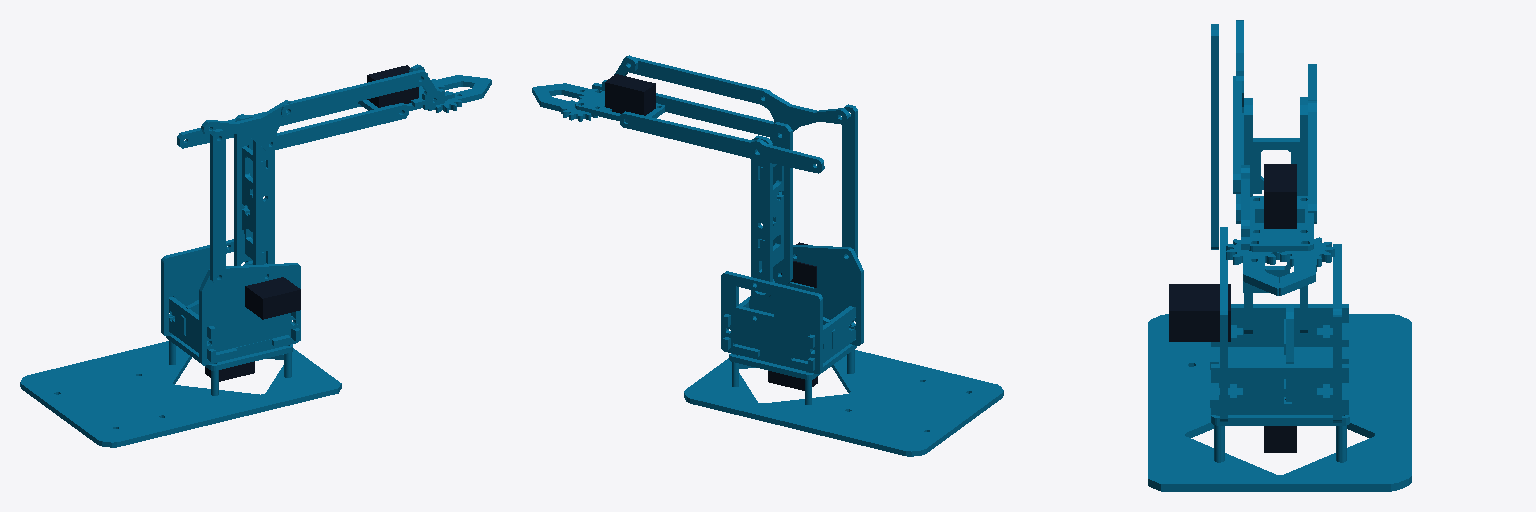
The robot description file, URDF, robot "mearm_v1":
<?xml version='1.0' encoding='utf-8'?>
<robot name="mearm_v1">
  <link name="world" />
  <link name="base">
    <inertial>
      <origin xyz="-0.0303282184 -0.000162375039 0.004575641184" />
      <mass value="0.0483422763018612" />
      <inertia ixx="3.8732441625071264e-05" iyy="8.64216964343675e-05" izz="0.00012075658607340269" ixy="7.669307180690146e-08" ixz="-4.469257511231687e-06" iyz="-3.4871850270490834e-08" />
    </inertial>
    <visual>
      <geometry>
        <mesh filename="../models/mearm_v1/meshes/base.stl" />
      </geometry>
      <material name="base_color">
        <color rgba="0.06 0.48 0.64 1" />
      </material>
    </visual>
    <collision>
      <origin xyz="-0.0304 0 0.0015" rpy="0 0 0" />
      <geometry>
        <box size="0.145 0.095 0.003" />
      </geometry>
    </collision>
    <collision>
      <origin xyz="0 0 0.0195" rpy="0 0 0" />
      <geometry>
        <box size="0.06 0.06 0.003" />
      </geometry>
    </collision>
  </link>
  <joint name="base_fixed" type="fixed">
    <parent link="world" />
    <child link="base" />
    <origin xyz="0 0 0" rpy="0 0 0" />
  </joint>
  <link name="yaw">
    <inertial>
      <origin xyz="-0.0001961493142 -0.0002219664234 0.01189272227" />
      <mass value="0.03379434339628319" />
      <inertia ixx="1.5274730450337914e-05" iyy="1.6684566195945514e-05" izz="2.058076962245976e-05" ixy="-2.942370931832446e-07" ixz="3.5893603893148974e-07" iyz="4.868718498761461e-07" />
    </inertial>
    <visual>
      <geometry>
        <mesh filename="../models/mearm_v1/meshes/yaw.stl" />
      </geometry>
      <material name="yaw_color">
        <color rgba="0.06 0.48 0.64 1" />
      </material>
    </visual>
    <collision>
      <origin xyz="0 0 0" rpy="0 0 0" />
      <geometry>
        <box size="0.058 0.046 0.004" />
      </geometry>
    </collision>
    <collision>
      <origin xyz="0 0.022 0.02" rpy="0 0 0" />
      <geometry>
        <box size="0.05 0.003 0.038" />
      </geometry>
    </collision>
    <collision>
      <origin xyz="0 -0.022 0.02" rpy="0 0 0" />
      <geometry>
        <box size="0.05 0.003 0.038" />
      </geometry>
    </collision>
  </link>
  <joint name="yaw_joint" type="revolute">
    <parent link="base" />
    <child link="yaw" />
    <origin xyz="0 0 0.026" rpy="0 0 0" />
    <axis xyz="0 0 1" />
    <limit lower="-0.7853981633974483" upper="0.7853981633974483" effort="0.15" velocity="2.0" />
  </joint>
  <link name="upper">
    <inertial>
      <origin xyz="0.04135615562 -0.001831469146 0.0006080224543" />
      <mass value="0.010103055149092276" />
      <inertia ixx="9.213655676598473e-07" iyy="5.705152080203725e-06" izz="6.435669156034649e-06" ixy="-1.192426353869282e-07" ixz="5.640259122027479e-09" iyz="5.658359349487189e-09" />
    </inertial>
    <visual>
      <geometry>
        <mesh filename="../models/mearm_v1/meshes/upper.stl" />
      </geometry>
      <material name="upper_color">
        <color rgba="0.06 0.48 0.64 1" />
      </material>
    </visual>
    <collision>
      <origin xyz="0.04 0 0" rpy="0 0 0" />
      <geometry>
        <box size="0.08 0.028 0.009" />
      </geometry>
    </collision>
  </link>
  <joint name="shoulder_joint" type="revolute">
    <parent link="yaw" />
    <child link="upper" />
    <origin xyz="0.014 0 0.029" rpy="0 -1.570796327 0" />
    <axis xyz="0 -1 0" />
    <limit lower="-0.7853981633974483" upper="0.7853981633974483" effort="0.15" velocity="2.0" />
  </joint>
  <link name="elbow_comp">
    <inertial>
      <origin xyz="-0.0078290986 -0.01450000024 0.0125784417" />
      <mass value="0.0019354003796495372" />
      <inertia ixx="6.217794838711322e-08" iyy="4.31441494653231e-07" izz="3.721666477584626e-07" ixy="-0.0" ixz="4.3593446015565946e-08" iyz="6.100457017578579e-23" />
    </inertial>
    <visual>
      <geometry>
        <mesh filename="../models/mearm_v1/meshes/elbow_comp.stl" />
      </geometry>
      <material name="elbow_comp_color">
        <color rgba="0.06 0.48 0.64 1" />
      </material>
    </visual>
  </link>
  <joint name="elbow_comp_joint" type="revolute">
    <parent link="upper" />
    <child link="elbow_comp" />
    <origin xyz="0.08 0 0" rpy="0 1.570796327 0" />
    <axis xyz="0 -1 0" />
    <limit lower="-0.7853981633974483" upper="0.7853981633974483" effort="0.15" velocity="2.0" />
    <mimic joint="shoulder_joint" multiplier="-1" offset="0" />
  </joint>
  <link name="forearm">
    <inertial>
      <origin xyz="0.02906995428 0.00120218526 0.000484221677" />
      <mass value="0.005991826769872481" />
      <inertia ixx="1.010167680068987e-06" iyy="6.131540665030952e-06" izz="7.0680959423365305e-06" ixy="7.308953848978475e-07" ixz="1.4455428444351999e-08" iyz="1.716146193753264e-08" />
    </inertial>
    <visual>
      <geometry>
        <mesh filename="../models/mearm_v1/meshes/forearm.stl" />
      </geometry>
      <material name="forearm_color">
        <color rgba="0.06 0.48 0.64 1" />
      </material>
    </visual>
    <collision>
      <origin xyz="0.04 0 0" rpy="0 0 0" />
      <geometry>
        <box size="0.08 0.03 0.009" />
      </geometry>
    </collision>
  </link>
  <joint name="elbow_joint" type="revolute">
    <parent link="elbow_comp" />
    <child link="forearm" />
    <origin xyz="0 0 0" rpy="0 0 0" />
    <axis xyz="0 -1 0" />
    <limit lower="-0.7853981633974483" upper="0.7853981633974483" effort="0.15" velocity="2.0" />
  </joint>
  <link name="hand">
    <inertial>
      <origin xyz="0.01410363637 -0.003545652611 0.002106475509" />
      <mass value="0.003025837002026127" />
      <inertia ixx="3.1772275281239337e-07" iyy="5.396545547679892e-07" izz="6.730446781374174e-07" ixy="4.2405787613604846e-08" ixz="-4.874291474947797e-09" iyz="6.439331549898824e-08" />
    </inertial>
    <visual>
      <geometry>
        <mesh filename="../models/mearm_v1/meshes/hand.stl" />
      </geometry>
      <material name="hand_color">
        <color rgba="0.06 0.48 0.64 1" />
      </material>
    </visual>
    <collision>
      <origin xyz="0.008 0 0.009" rpy="0 0 0" />
      <geometry>
        <box size="0.03 0.025 0.014" />
      </geometry>
    </collision>
  </link>
  <joint name="wrist_joint" type="revolute">
    <parent link="forearm" />
    <child link="hand" />
    <origin xyz="0.08 0 0" rpy="0 0 0" />
    <axis xyz="0 -1 0" />
    <limit lower="-0.7853981633974483" upper="0.7853981633974483" effort="0.15" velocity="2.0" />
    <mimic joint="elbow_joint" multiplier="-1" offset="0" />
  </joint>
  <link name="left_finger">
    <inertial>
      <origin xyz="0.009183792337 -0.0007943490379 -0.002367237808" />
      <mass value="0.0015476227915413678" />
      <inertia ixx="3.10936511745476e-08" iyy="2.0101850686312865e-07" izz="2.2978971466029934e-07" ixy="2.7651508966849596e-08" ixz="3.165248074012274e-10" iyz="-4.41122371875932e-11" />
    </inertial>
    <visual>
      <geometry>
        <mesh filename="../models/mearm_v1/meshes/left_finger.stl" />
      </geometry>
      <material name="left_finger_color">
        <color rgba="0.06 0.48 0.64 1" />
      </material>
    </visual>
    <collision>
      <origin xyz="0.021 -0.007 -0.002" rpy="0 0 0" />
      <geometry>
        <box size="0.025 0.003 0.005" />
      </geometry>
    </collision>
  </link>
  <joint name="left_finger_joint" type="revolute">
    <parent link="hand" />
    <child link="left_finger" />
    <origin xyz="0.028 0.009 0" rpy="0 0 0" />
    <axis xyz="0 0 1" />
    <limit lower="0" upper="0.5" effort="0.15" velocity="2.0" />
  </joint>
  <link name="right_finger">
    <inertial>
      <origin xyz="0.009155621376 0.0004145596957 -0.002408229175" />
      <mass value="0.0015173103421311396" />
      <inertia ixx="3.009970108982464e-08" iyy="2.018129990081572e-07" izz="2.2963659290922214e-07" ixy="-2.4842186505131044e-08" ixz="3.93119509488913e-11" iyz="4.4281975677756765e-11" />
    </inertial>
    <visual>
      <geometry>
        <mesh filename="../models/mearm_v1/meshes/right_finger.stl" />
      </geometry>
      <material name="right_finger_color">
        <color rgba="0.06 0.48 0.64 1" />
      </material>
    </visual>
    <collision>
      <origin xyz="0.021 0.007 -0.002" rpy="0 0 0" />
      <geometry>
        <box size="0.025 0.003 0.005" />
      </geometry>
    </collision>
  </link>
  <joint name="right_finger_joint" type="revolute">
    <parent link="hand" />
    <child link="right_finger" />
    <origin xyz="0.028 -0.009 0" rpy="0 0 0" />
    <axis xyz="0 0 1" />
    <limit lower="-0.5" upper="0" effort="0.15" velocity="2.0" />
    <mimic joint="left_finger_joint" multiplier="-1" offset="0" />
  </joint>
  <link name="upper_parallel">
    <inertial>
      <origin xyz="0.04042682856 -0.004500000238 -0.0002376469719" />
      <mass value="0.002402846394184476" />
      <inertia ixx="1.4718122357124315e-08" iyy="1.469994684519481e-06" izz="1.4588808328994002e-06" ixy="-1.2200914035157158e-22" ixz="-4.130661520730077e-13" iyz="-9.53196408996653e-25" />
    </inertial>
    <visual>
      <geometry>
        <mesh filename="../models/mearm_v1/meshes/upper_parallel.stl" />
      </geometry>
      <material name="upper_parallel_color">
        <color rgba="0.06 0.48 0.64 1" />
      </material>
    </visual>
  </link>
  <joint name="upper_parallel_joint" type="revolute">
    <parent link="yaw" />
    <child link="upper_parallel" />
    <origin xyz="-0.021 -0.019 0.045" rpy="0 -1.570796327 0" />
    <axis xyz="0 -1 0" />
    <limit lower="-0.7853981633974483" upper="0.7853981633974483" effort="0.15" velocity="2.0" />
    <mimic joint="shoulder_joint" multiplier="1" offset="0" />
  </joint>
  <link name="forearm_parallel">
    <inertial>
      <origin xyz="0.03942682856 -0.001500000238 -0.0002376469719" />
      <mass value="0.002402846394184476" />
      <inertia ixx="1.4718122357124331e-08" iyy="1.4699946845194803e-06" izz="1.4588808328994002e-06" ixy="-0.0" ixz="-4.130661520691949e-13" iyz="-4.765982044983265e-25" />
    </inertial>
    <visual>
      <geometry>
        <mesh filename="../models/mearm_v1/meshes/forearm_parallel.stl" />
      </geometry>
      <material name="forearm_parallel_color">
        <color rgba="0.06 0.48 0.64 1" />
      </material>
    </visual>
  </link>
  <joint name="forearm_parallel_joint" type="revolute">
    <parent link="elbow_comp" />
    <child link="forearm_parallel" />
    <origin xyz="0.012 -0.014 0.018" rpy="0 0 0" />
    <axis xyz="0 -1 0" />
    <limit lower="-0.7853981633974483" upper="0.7853981633974483" effort="0.15" velocity="2.0" />
    <mimic joint="elbow_joint" multiplier="1" offset="0" />
  </joint>
  <link name="base_servo">
    <inertial>
      <origin xyz="0 0 0" />
      <mass value="0.009" />
      <inertia ixx="4.0800000000000005e-07" iyy="6.9675e-07" izz="5.047499999999999e-07" ixy="-0.0" ixz="-0.0" iyz="-0.0" />
    </inertial>
    <visual>
      <geometry>
        <mesh filename="../models/mearm_v1/meshes/base_servo.stl" />
      </geometry>
      <material name="base_servo_color">
        <color rgba="0.08 0.12 0.18 1" />
      </material>
    </visual>
  </link>
  <joint name="base_servo_fixed" type="fixed">
    <parent link="base" />
    <child link="base_servo" />
    <origin xyz="0 0 0.011" rpy="0 0 0" />
  </joint>
  <link name="left_servo">
    <inertial>
      <origin xyz="0 0 0" />
      <mass value="0.009" />
      <inertia ixx="4.709999999999998e-07" iyy="5.047499999999998e-07" izz="7.597499999999997e-07" ixy="-0.0" ixz="-0.0" iyz="-0.0" />
    </inertial>
    <visual>
      <geometry>
        <mesh filename="../models/mearm_v1/meshes/left_servo.stl" />
      </geometry>
      <material name="left_servo_color">
        <color rgba="0.08 0.12 0.18 1" />
      </material>
    </visual>
  </link>
  <joint name="left_servo_fixed" type="fixed">
    <parent link="yaw" />
    <child link="left_servo" />
    <origin xyz="0.008 0.029 0.029" rpy="0 0 0" />
  </joint>
  <link name="right_servo">
    <inertial>
      <origin xyz="0 0 0" />
      <mass value="0.009" />
      <inertia ixx="4.709999999999998e-07" iyy="5.047499999999998e-07" izz="7.597499999999997e-07" ixy="-0.0" ixz="-0.0" iyz="-0.0" />
    </inertial>
    <visual>
      <geometry>
        <mesh filename="../models/mearm_v1/meshes/right_servo.stl" />
      </geometry>
      <material name="right_servo_color">
        <color rgba="0.08 0.12 0.18 1" />
      </material>
    </visual>
  </link>
  <joint name="right_servo_fixed" type="fixed">
    <parent link="yaw" />
    <child link="right_servo" />
    <origin xyz="0.008 -0.029 0.029" rpy="0 0 0" />
  </joint>
  <link name="gripper_servo">
    <inertial>
      <origin xyz="0 0 0" />
      <mass value="0.009" />
      <inertia ixx="3.509999999999998e-07" iyy="6.749999999999997e-07" izz="5.399999999999998e-07" ixy="-0.0" ixz="-0.0" iyz="-0.0" />
    </inertial>
    <visual>
      <geometry>
        <mesh filename="../models/mearm_v1/meshes/gripper_servo.stl" />
      </geometry>
      <material name="gripper_servo_color">
        <color rgba="0.08 0.12 0.18 1" />
      </material>
    </visual>
  </link>
  <joint name="gripper_servo_fixed" type="fixed">
    <parent link="hand" />
    <child link="gripper_servo" />
    <origin xyz="0.004 0 0.0065" rpy="0 0 0" />
  </joint>
  <link name="tool" />
  <joint name="tool_joint" type="fixed">
    <parent link="hand" />
    <child link="tool" />
    <origin xyz="0.054 0 0" rpy="0 0 0" />
  </joint>
</robot>

--- Render facts (derived) ---
3 views of the same robot in one strip: view 1: azimuth 30°, elevation 25°; view 2: azimuth 150°, elevation 25°; view 3: azimuth 270°, elevation 25° (orthographic).
Robot: mearm_v1 — 16 links, 15 joints (9 revolute, 6 fixed); root link world; default pose: all joints at 0.
Links seen in each view (by area): view 1: base, yaw, upper, forearm, upper_parallel, forearm_parallel, right_servo, elbow_comp, hand, gripper_servo, right_finger; view 2: base, yaw, upper, forearm, upper_parallel, forearm_parallel, gripper_servo, elbow_comp, hand, left_finger, right_servo; view 3: base, yaw, upper, right_servo, hand, gripper_servo, upper_parallel, left_finger, forearm, right_finger, forearm_parallel, base_servo (+1 smaller).
Link boxes in pixels (box(x1,y1,x2,y2)): base: box(20, 335, 341, 447); yaw: box(161, 239, 300, 365); upper: box(234, 115, 274, 276); forearm: box(177, 102, 408, 151); upper_parallel: box(210, 129, 225, 284); forearm_parallel: box(281, 70, 427, 118); right_servo: box(245, 277, 300, 319); elbow_comp: box(201, 100, 291, 151); hand: box(358, 64, 454, 112); gripper_servo: box(367, 65, 418, 107); right_finger: box(428, 79, 491, 112); base: box(684, 344, 1003, 456); yaw: box(721, 245, 863, 373); upper: box(751, 122, 792, 299); forearm: box(620, 93, 824, 173); upper_parallel: box(842, 104, 857, 256); forearm_parallel: box(629, 57, 770, 104); gripper_servo: box(605, 74, 655, 115); elbow_comp: box(756, 89, 849, 134); hand: box(575, 55, 664, 122); left_finger: box(532, 88, 597, 121); right_servo: box(781, 242, 816, 287); base: box(1148, 314, 1411, 491); yaw: box(1210, 227, 1348, 422); upper: box(1243, 97, 1307, 334); right_servo: box(1169, 284, 1230, 341); hand: box(1241, 165, 1313, 251); gripper_servo: box(1264, 164, 1296, 228); upper_parallel: box(1211, 24, 1218, 249); left_finger: box(1279, 237, 1334, 295); forearm: box(1236, 64, 1316, 223); right_finger: box(1226, 239, 1281, 295); forearm_parallel: box(1233, 76, 1241, 193); base_servo: box(1264, 399, 1296, 452).
Bounding box of the posed robot: 0.2597 × 0.095 × 0.1587 m (x, y, z).
Meshes: 14 distinct files referenced, 13 mesh visuals loaded (13 binary STL); not drawn: 1 (reference not matched to a file when rendering).
